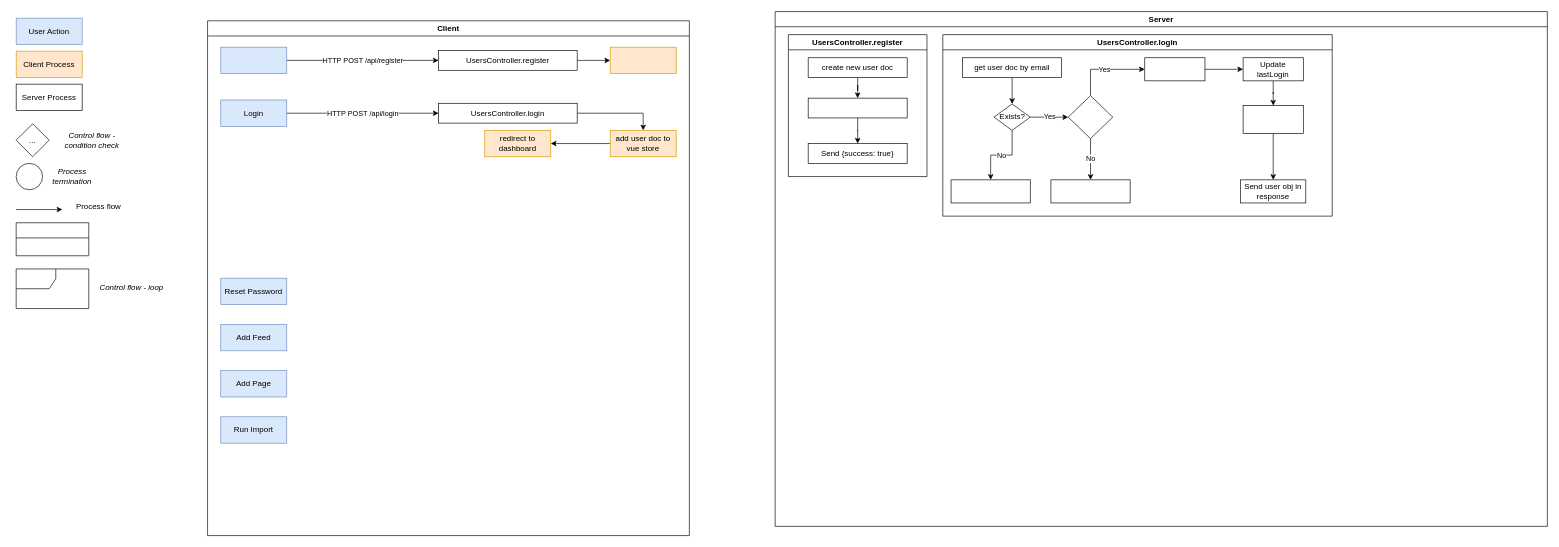
The diagram is 1559 pixels wide and 547 high, and some of its shapes have lost their labels. Here are the shapes that lost their labels. From the top down, the centre of each, then its label:
(253,60): Register
(643,60): redirect to login
(1174,69): Generate JWT token
(857,107): Add to users collection
(1090,117): Valid pwd?
(1272,119): Set token in cookie
(29,176): End
(990,191): Send "user not registered"
(1090,191): Send "invalid pwd"
(52,239): code block
(52,288): loop
